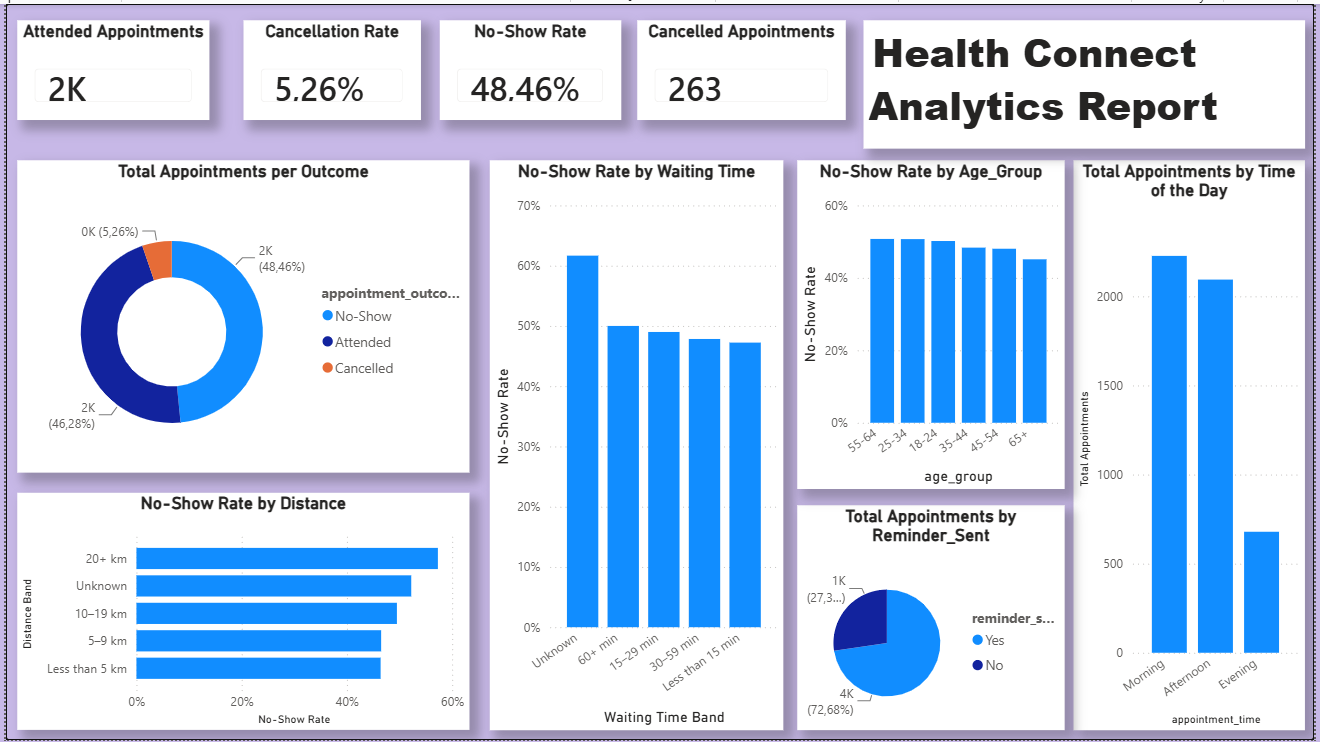

The dashboard page shown, as its layout file describes it:
{"tool":"powerbi","page":{"name":"Page 1","canvas":[1280,720],"ordinal":0},"visuals":[{"type":"donutChart","title":"Total Appointments per Outcome","fields":{"Category":["HealthConnect_Appointment_Data.appointment_outcome"],"Y":["HealthConnect_Appointment_Data.Total Appointments"]},"box":[11,152.9,442.7,305.7],"z":0},{"type":"columnChart","title":"Total Appointments by Time of the Day","fields":{"Y":["HealthConnect_Appointment_Data.Total Appointments"],"Category":["HealthConnect_Appointment_Data.appointment_time"]},"box":[1044.3,152.9,226.2,557.6],"z":1000},{"type":"barChart","title":"No-Show Rate by Distance ","fields":{"Category":["HealthConnect_Appointment_Data.Distance Band"],"Y":["HealthConnect_Appointment_Data.No-Show Rate"]},"box":[11,478.1,442.7,232.3],"z":2000},{"type":"columnChart","title":"No-Show Rate by Waiting Time ","fields":{"Category":["HealthConnect_Appointment_Data.Waiting Time Band"],"Y":["HealthConnect_Appointment_Data.No-Show Rate"]},"box":[473.2,152.9,287.4,557.6],"z":3000},{"type":"pieChart","title":"Total Appointments by Reminder_Sent","fields":{"Category":["HealthConnect_Appointment_Data.reminder_sent"],"Y":["HealthConnect_Appointment_Data.Total Appointments"]},"box":[774.1,490.4,261.7,220.1],"z":4000},{"type":"columnChart","title":"No-Show Rate by Age_Group","fields":{"Category":["HealthConnect_Appointment_Data.age_group"],"Y":["HealthConnect_Appointment_Data.No-Show Rate"]},"box":[774.1,152.9,261.7,321.6],"z":5000},{"type":"cardVisual","title":"Attended Appointments","fields":{"Data":["HealthConnect_Appointment_Data.Attended Appointments"]},"box":[11,15.9,188.3,97.8],"z":5001},{"type":"cardVisual","title":"Cancellation Rate","fields":{"Data":["HealthConnect_Appointment_Data.Cancellation Rate"]},"box":[232.3,15.9,173.6,97.8],"z":5002},{"type":"cardVisual","title":"No-Show Rate","fields":{"Data":["HealthConnect_Appointment_Data.No-Show Rate"]},"box":[424.3,15.9,177.3,97.8],"z":5003},{"type":"cardVisual","title":"Cancelled Appointments","fields":{"Data":["HealthConnect_Appointment_Data.Cancelled Appointments"]},"box":[617.5,15.9,204.2,97.8],"z":5004},{"type":"textbox","box":[838.9,15.9,431.7,126],"z":5005}]}

Visuals, with their boxes in screenshot pixels (x1, y1, x2, y2), scaled from the page's 1280x720 canvas onto the 1320x742 screenshot:
"Total Appointments per Outcome" donutChart: [left=11, top=158, right=468, bottom=473]
"Total Appointments by Time of the Day" columnChart: [left=1077, top=158, right=1310, bottom=732]
"No-Show Rate by Distance " barChart: [left=11, top=493, right=468, bottom=732]
"No-Show Rate by Waiting Time " columnChart: [left=488, top=158, right=784, bottom=732]
"Total Appointments by Reminder_Sent" pieChart: [left=798, top=505, right=1068, bottom=732]
"No-Show Rate by Age_Group" columnChart: [left=798, top=158, right=1068, bottom=489]
"Attended Appointments" cardVisual: [left=11, top=16, right=206, bottom=117]
"Cancellation Rate" cardVisual: [left=240, top=16, right=419, bottom=117]
"No-Show Rate" cardVisual: [left=438, top=16, right=620, bottom=117]
"Cancelled Appointments" cardVisual: [left=637, top=16, right=847, bottom=117]
textbox: [left=865, top=16, right=1310, bottom=146]
